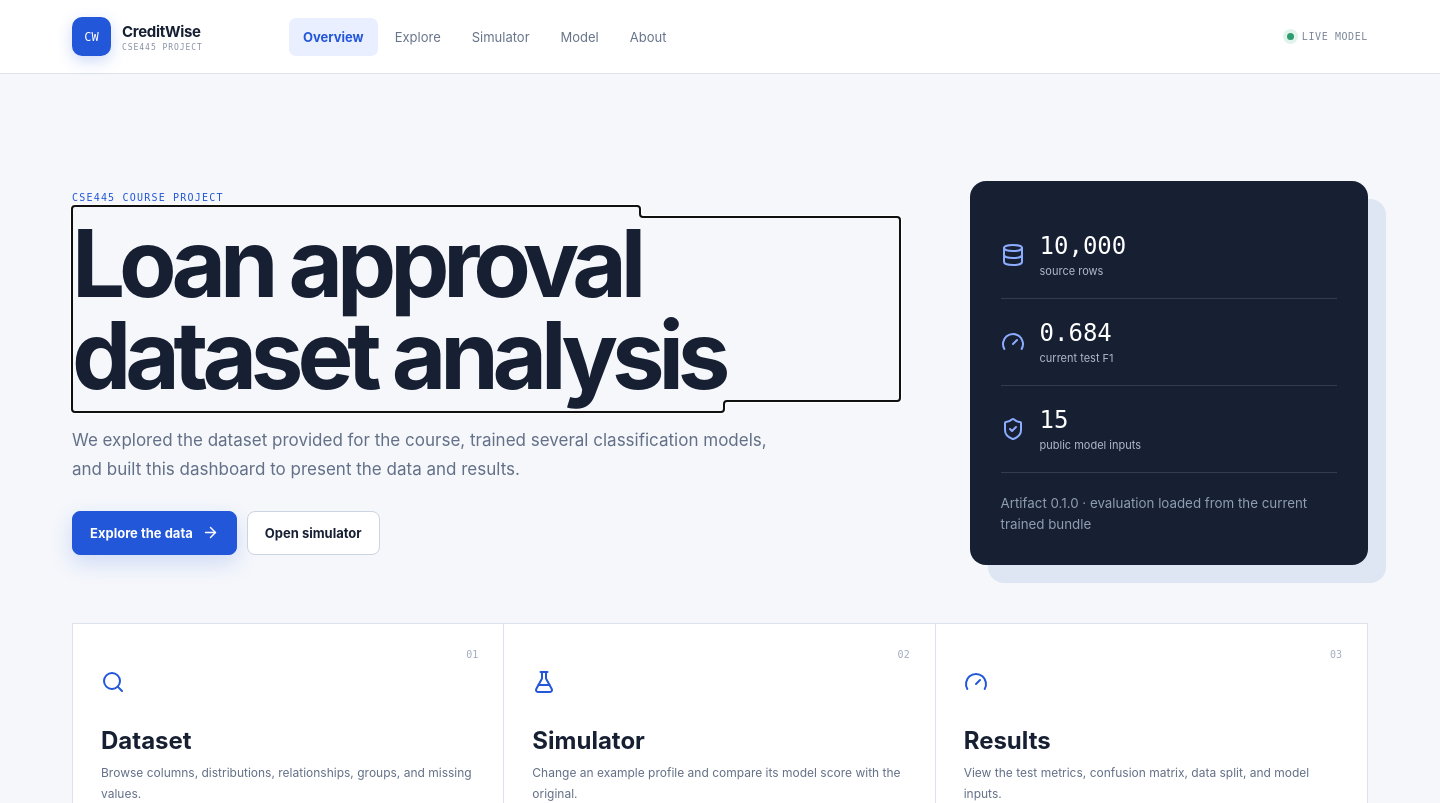
Test: CreditWise course project › uses routes and completes a scenario comparison
Expected: the heading "Loan approval dataset analysis" is shown, [72,206,724,412]
Expected: the text "Live model" is shown, [1287,31,1368,42]
Click the button "Open simulator".
click(313, 533)  # box [247,511,380,555]
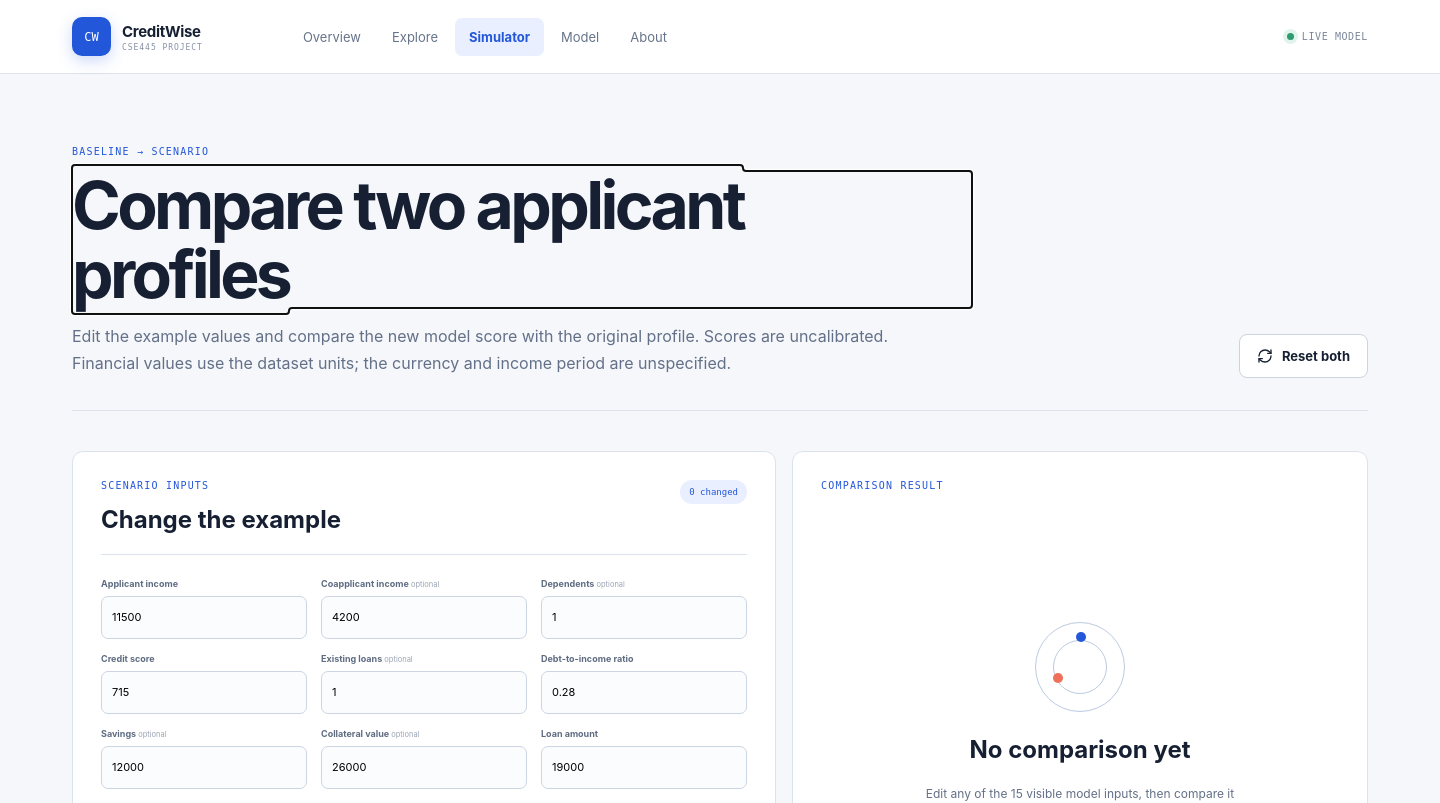
Expected: the heading "Compare two applicant profiles" is shown, [72,165,743,314]
Replace the text in the number field labelled "Credit score" with "730" at (204, 692), box [101,670,307,714]
(page scrolled)
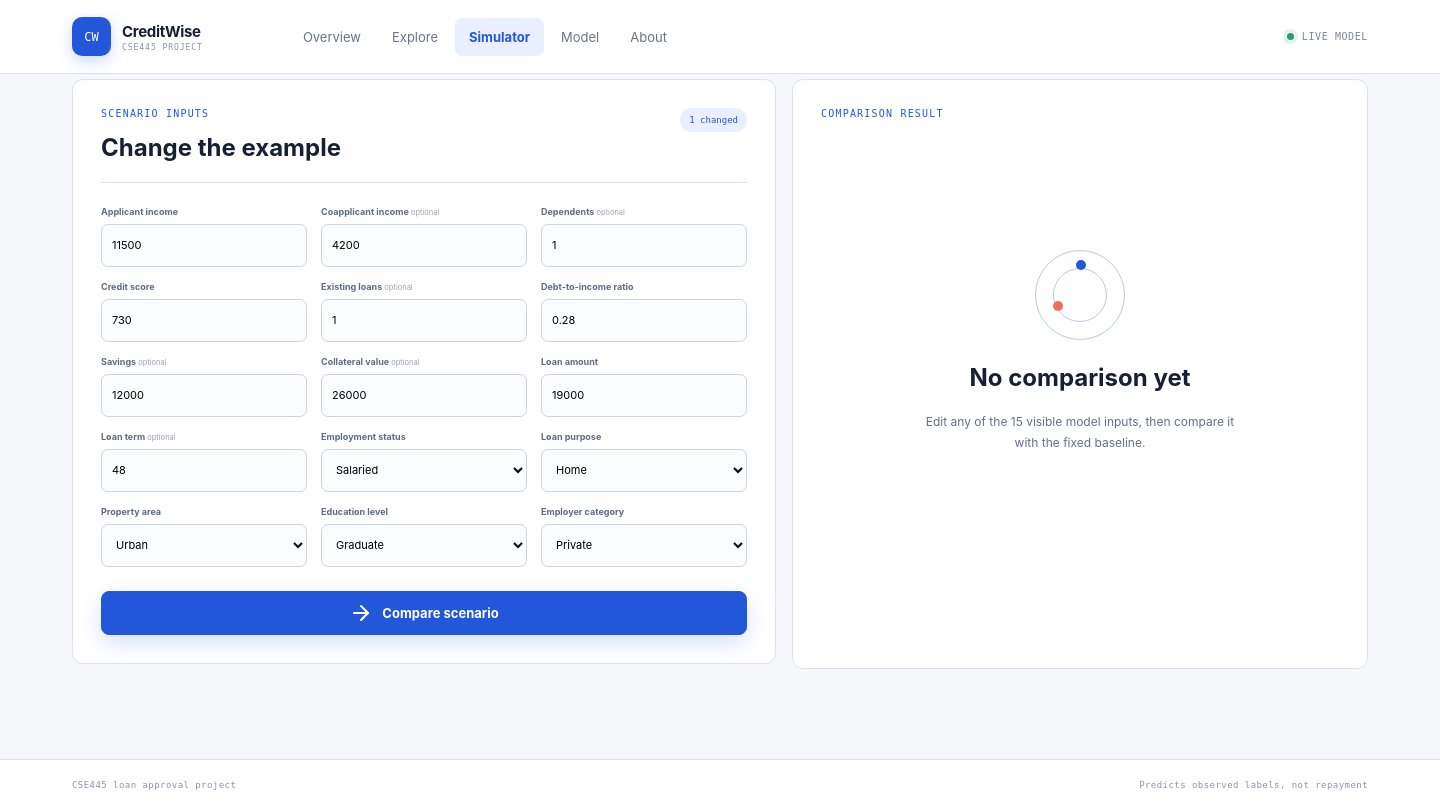
Click the button "Compare scenario".
click(424, 612)  # box [101,590,747,634]
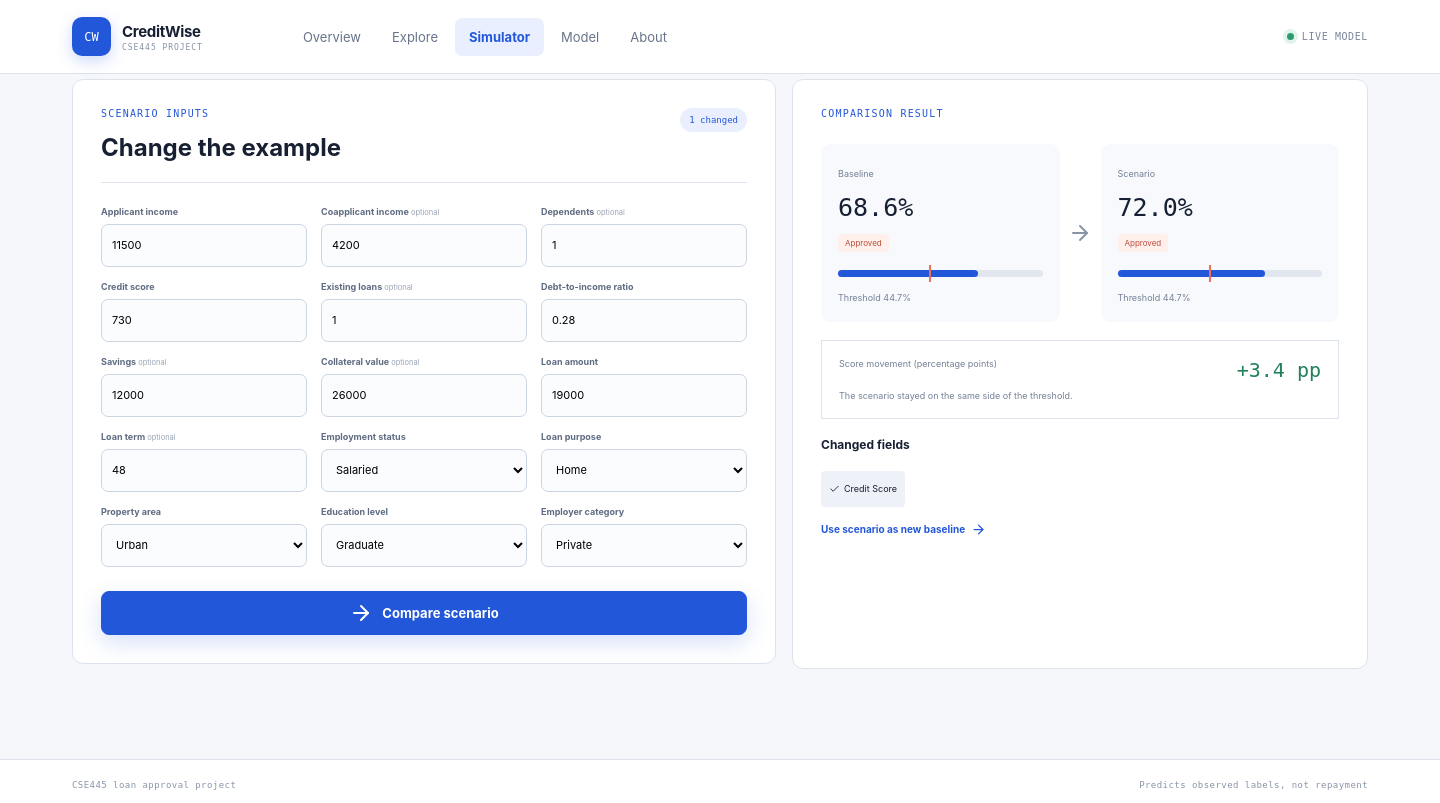
Expected: the text "+3.4 pp" is shown, [1237,358,1321,382]
Replace the text in the number field labelled "Credit score" with "740" at (204, 320), box [101,298,307,342]
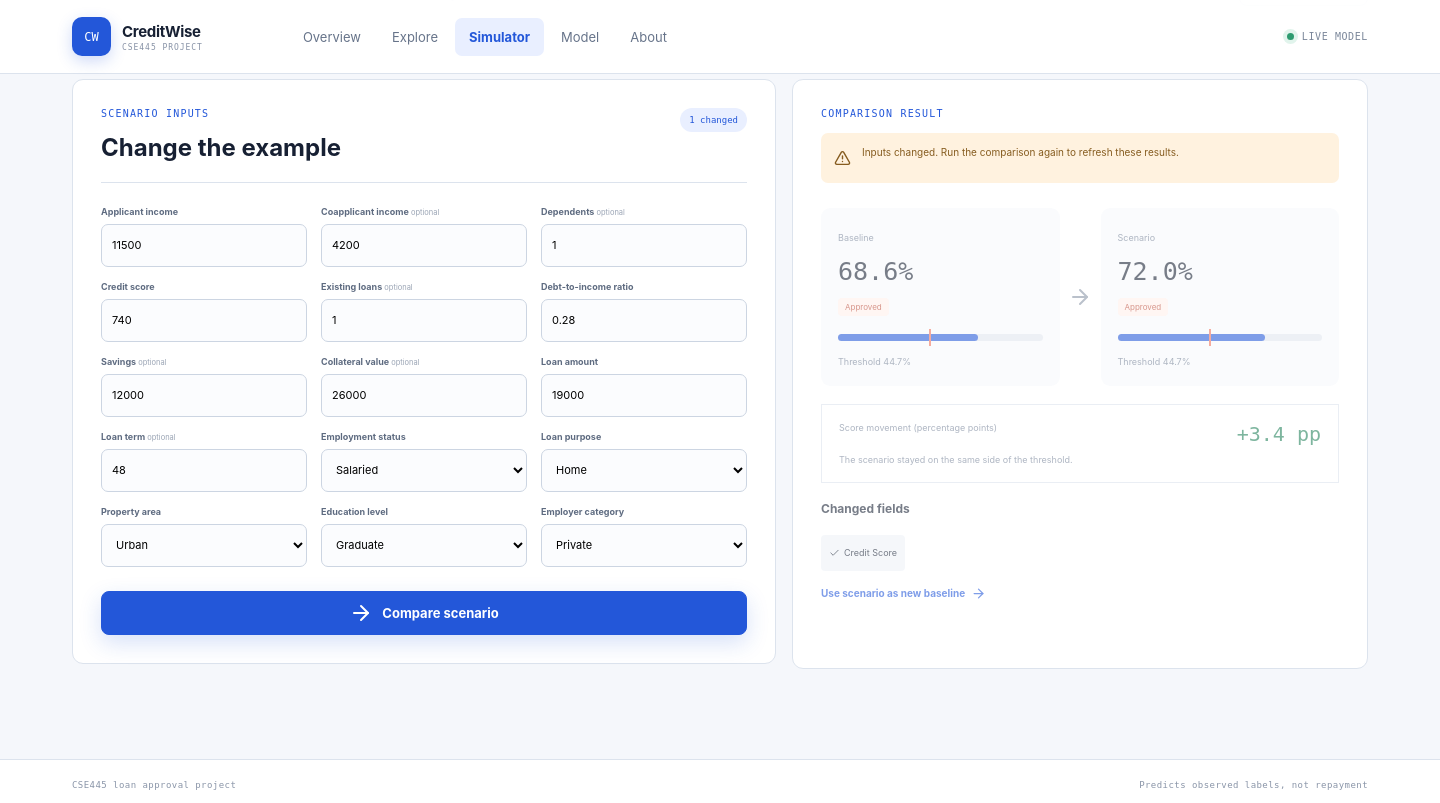
Expected: the text "Inputs changed" is shown, [862,146,1179,158]
